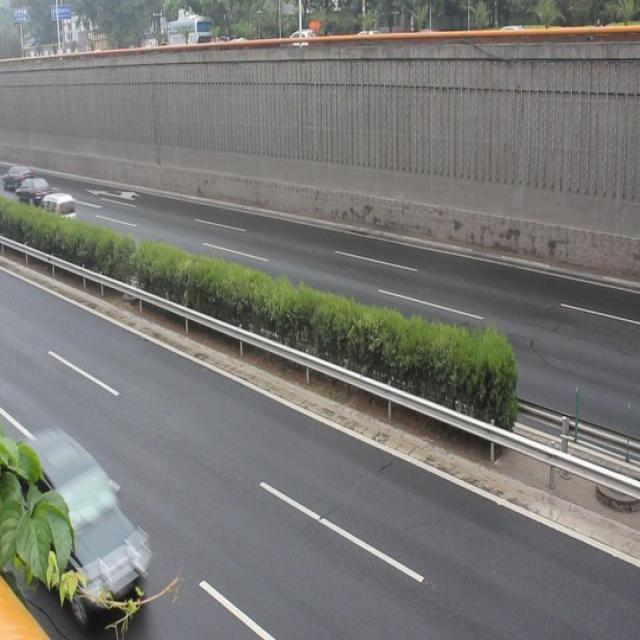car: (16, 420, 156, 612)
